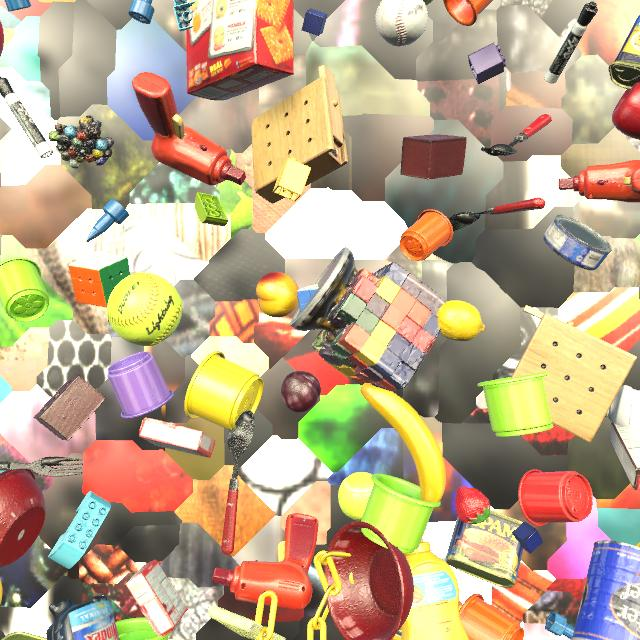ycb_002_master_chef_can: (571, 540, 640, 640)
ycb_003_cracker_box: (186, 0, 294, 101)
ycb_006_mustard_bottle: (401, 539, 469, 640), (0, 579, 3, 604)
ycb_007_tuna_fish_can: (543, 214, 612, 271)
ycb_008_pudding_box: (610, 422, 640, 490)
ycb_009_gelatin_box: (125, 559, 188, 637), (139, 417, 215, 458)
ycb_010_potted_meat_can: (445, 510, 523, 588), (608, 15, 640, 90), (1, 631, 47, 640)
ycb_011_banana: (360, 383, 446, 503)
ycb_012_strawberry: (455, 486, 490, 524)
ycb_013_apple: (612, 83, 640, 140), (0, 21, 4, 56)
ycb_014_lemon: (437, 300, 485, 341)
ycb_015_peach: (256, 272, 299, 317)
ycb_018_plum: (281, 371, 321, 413)
